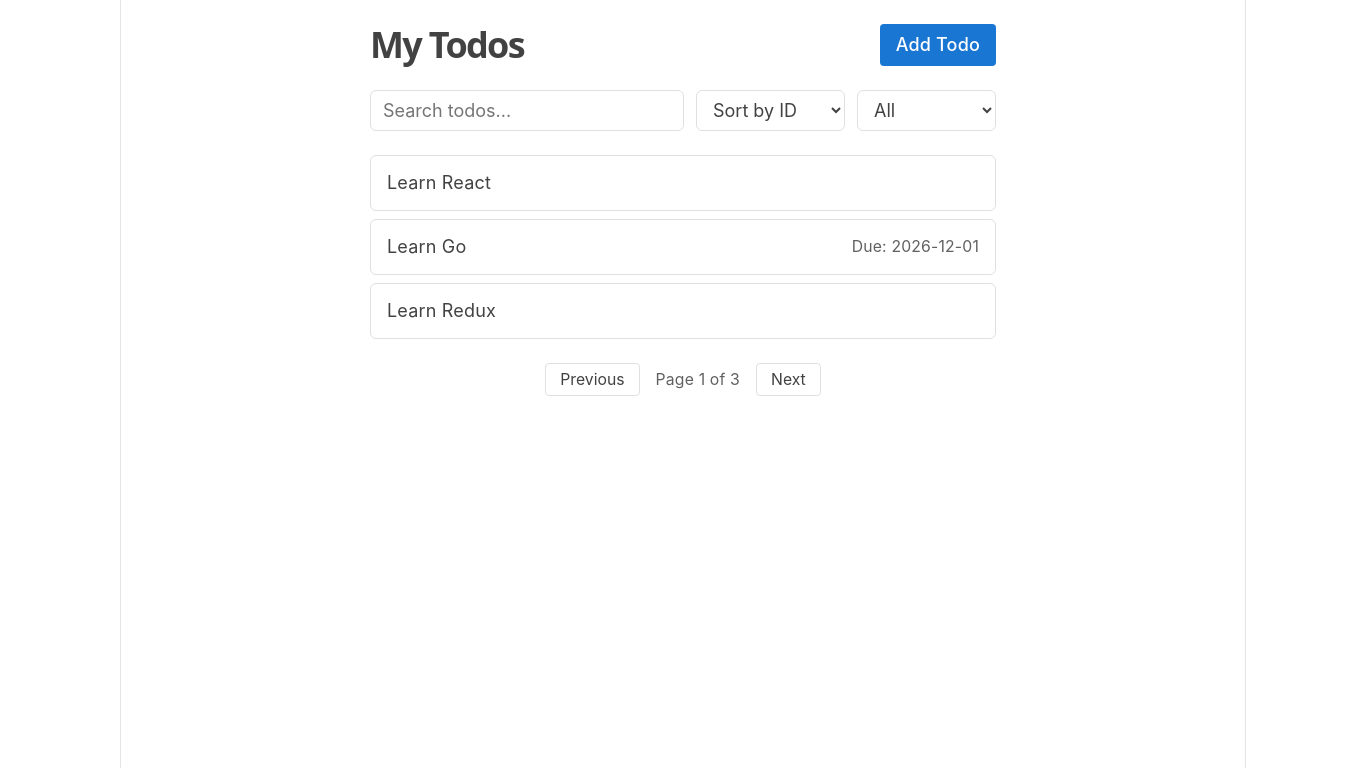
it: HomePage todo list › moves between pages with the pagination buttons
The width and height of the screenshot is (1366, 768).
Expected: the text "Learn React" is shown, x1=387 y1=170 x2=491 y2=196
Expected: the button "Previous" is disabled, x1=545 y1=363 x2=640 y2=396
Click the button "Next" at (788, 380), box x1=756 y1=363 x2=821 y2=396
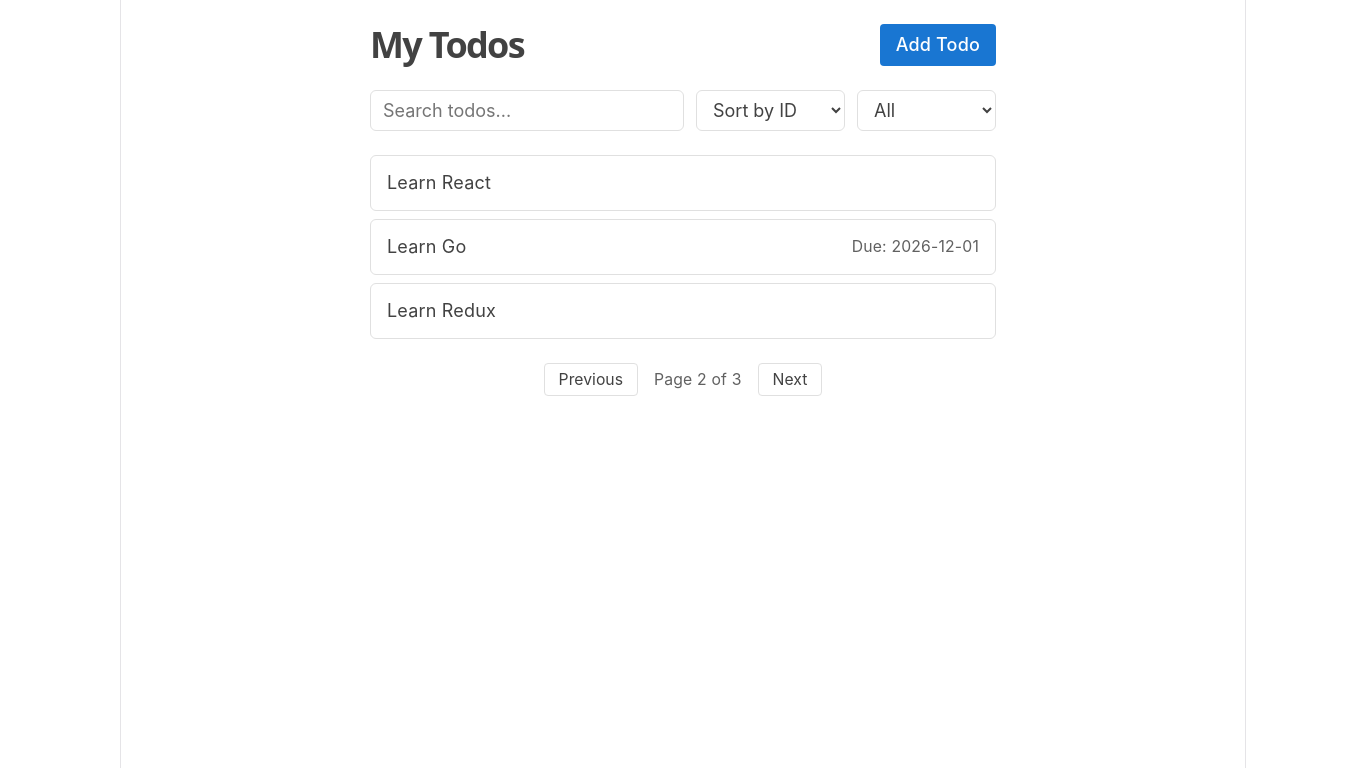
Expected: the text "Page 2 of 3" is shown, x1=654 y1=367 x2=742 y2=393
Click the button "Previous" at (591, 380), box x1=544 y1=363 x2=638 y2=396
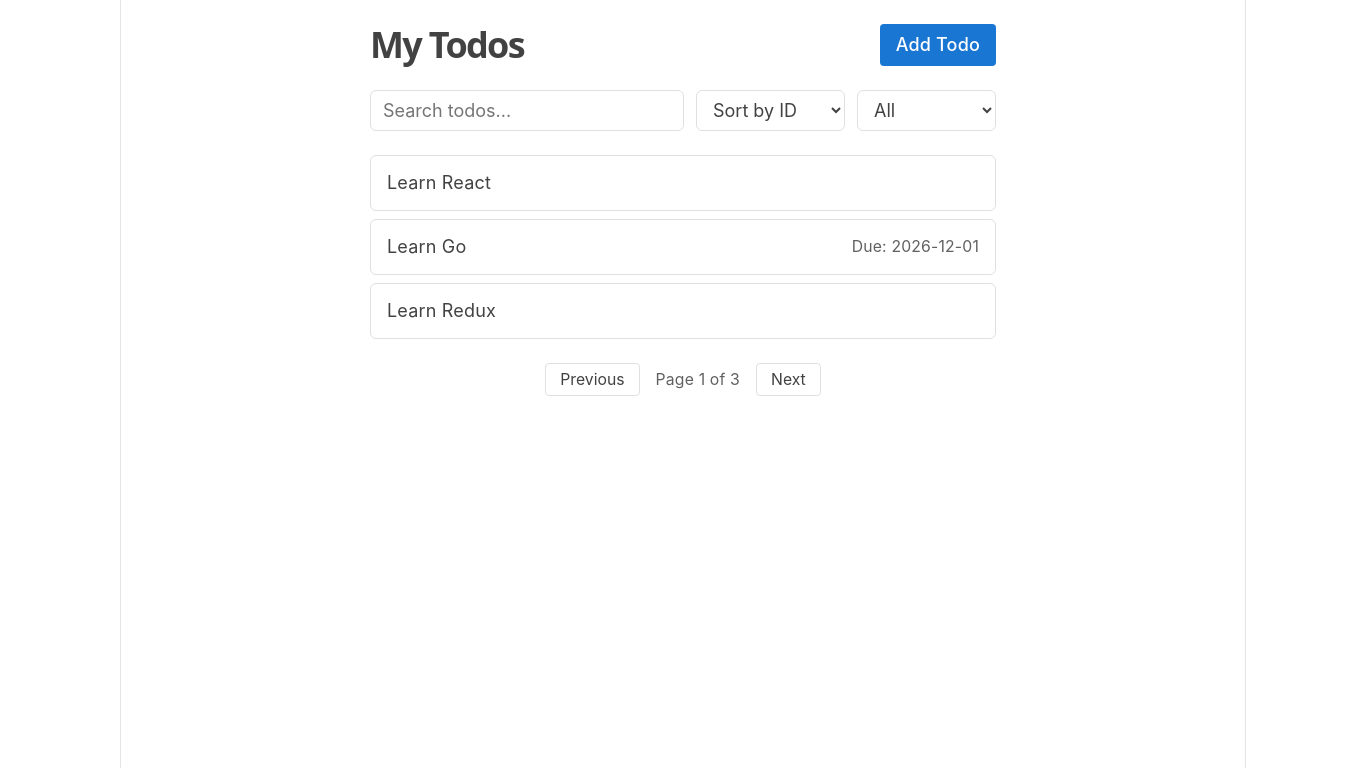
Expected: the text "Page 1 of 3" is shown, x1=656 y1=367 x2=740 y2=393
